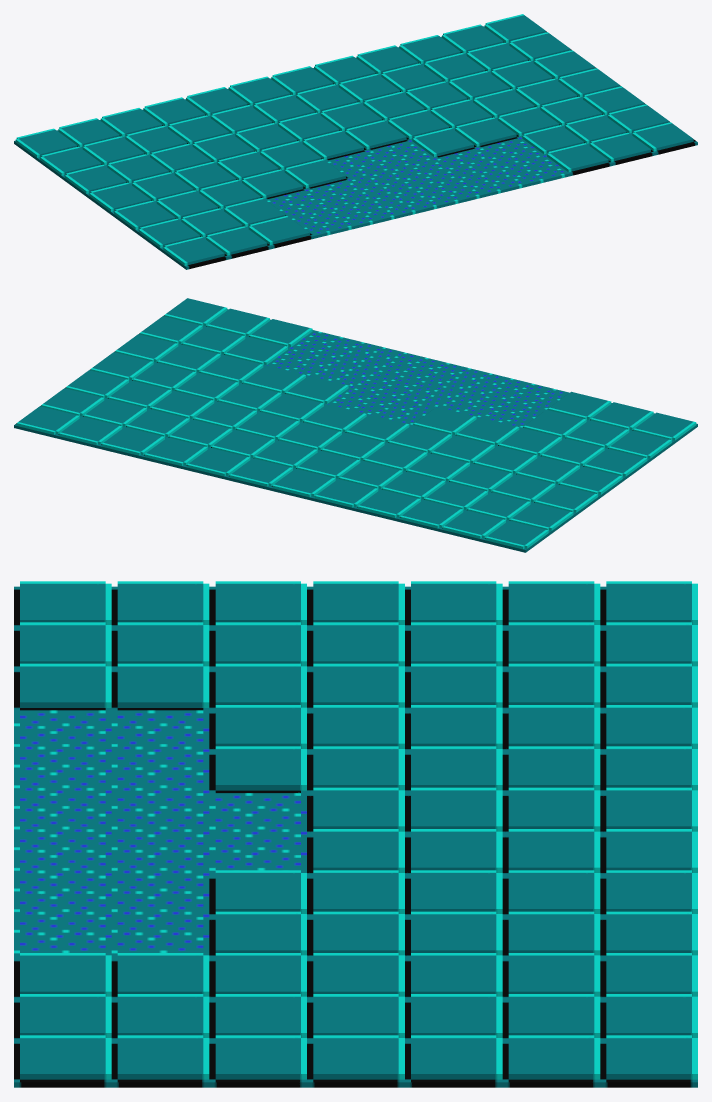
The model's file is FloorEntrance.glb.
The picture shows the model from 3 angles, top to bottom: view 1: azimuth 30°, elevation 25°; view 2: azimuth 150°, elevation 25°; view 3: azimuth 270°, elevation 25°; orthographic projection. The views are drawn at different scales.
Parts seen in each view (by area): view 1: EntranceFloor; view 2: EntranceFloor; view 3: EntranceFloor.
Part boxes in pixels (<box>): EntranceFloor: <box>14,14,697,269</box>; EntranceFloor: <box>14,298,697,552</box>; EntranceFloor: <box>14,581,697,1087</box>.
Size of what is drawn, in the model's own units: 19.2 by 0.2 by 11.2.
Materials: 1 (1 with a texture image).
